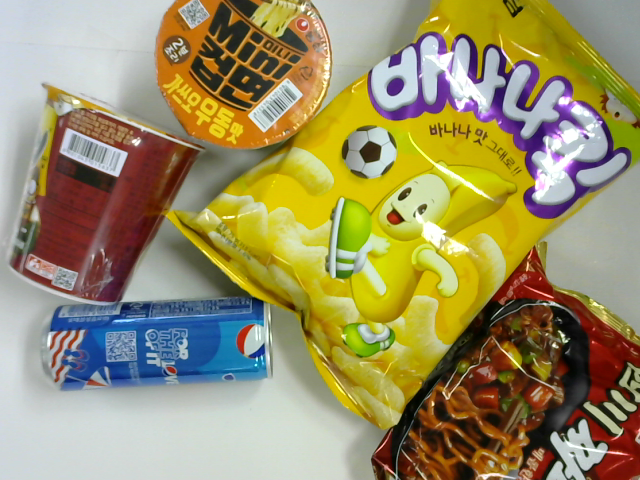Banana_Kick: (162, 2, 639, 433)
Pepsi_Cola_Can_250ml: (39, 292, 273, 392)
Raccoon: (5, 84, 207, 307)
Sichuan_Chapaghetti: (371, 241, 640, 471)
Udongmini: (156, 1, 334, 151)
